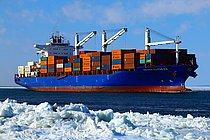Ship: (12, 26, 202, 97)
